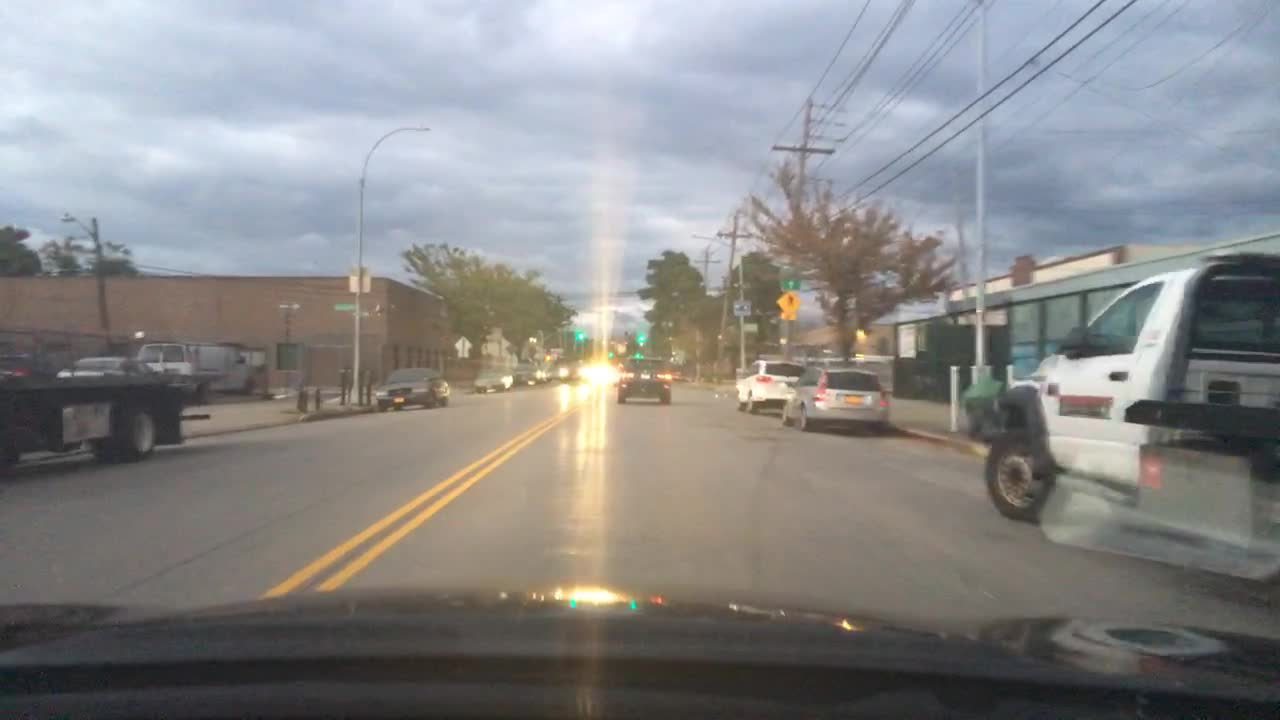car: (780, 365, 890, 436), (135, 340, 256, 398), (731, 355, 806, 414), (374, 366, 452, 409), (57, 354, 152, 386), (614, 356, 674, 406), (472, 364, 515, 393), (512, 363, 547, 386), (579, 361, 614, 383), (547, 363, 578, 381), (669, 364, 685, 381)
traffic light: (633, 351, 644, 360), (636, 331, 644, 343), (574, 329, 583, 339), (608, 349, 615, 359)
traffic sign: (774, 291, 799, 319), (452, 335, 472, 356), (348, 274, 369, 293), (780, 278, 799, 289), (332, 303, 357, 310), (742, 321, 757, 330)
truck: (964, 247, 1278, 583), (0, 365, 185, 477)
